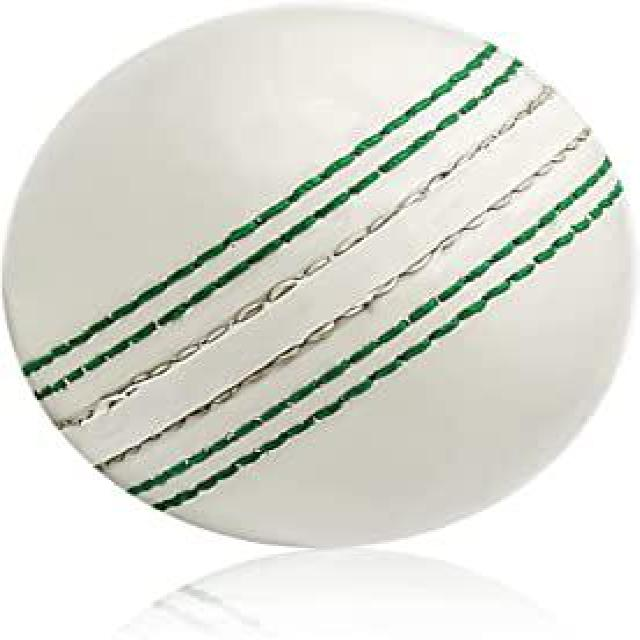ball: (2, 6, 638, 552)
